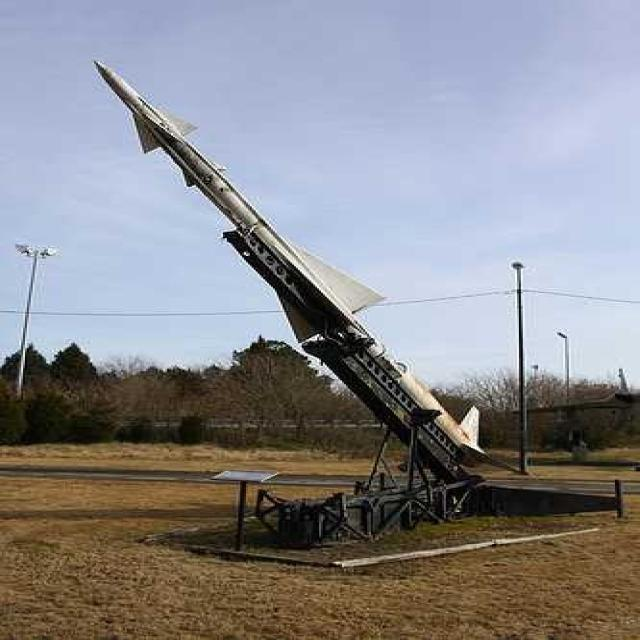missile: (93, 57, 400, 350)
